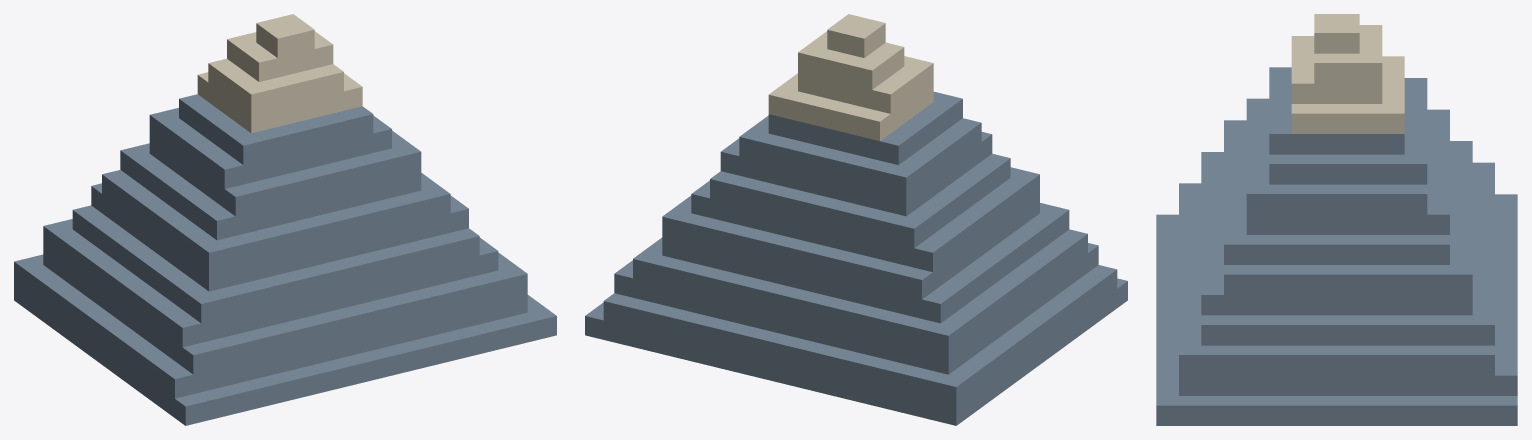
The model's file is physics-11.glb.
The picture shows the model from 3 angles, left to right: view 1: azimuth 30°, elevation 25°; view 2: azimuth 150°, elevation 25°; view 3: azimuth 270°, elevation 25°; orthographic projection. The views are drawn at different scales.
Visible parts, largest first — view 1: Prism; view 2: Prism; view 3: Prism.
Part boxes in pixels (bbox=[...]): Prism: bbox=[14, 14, 556, 425]; Prism: bbox=[585, 14, 1127, 425]; Prism: bbox=[1156, 14, 1517, 425].
Bounding box in the file's own units: 1.6 × 1.2 × 1.28.
